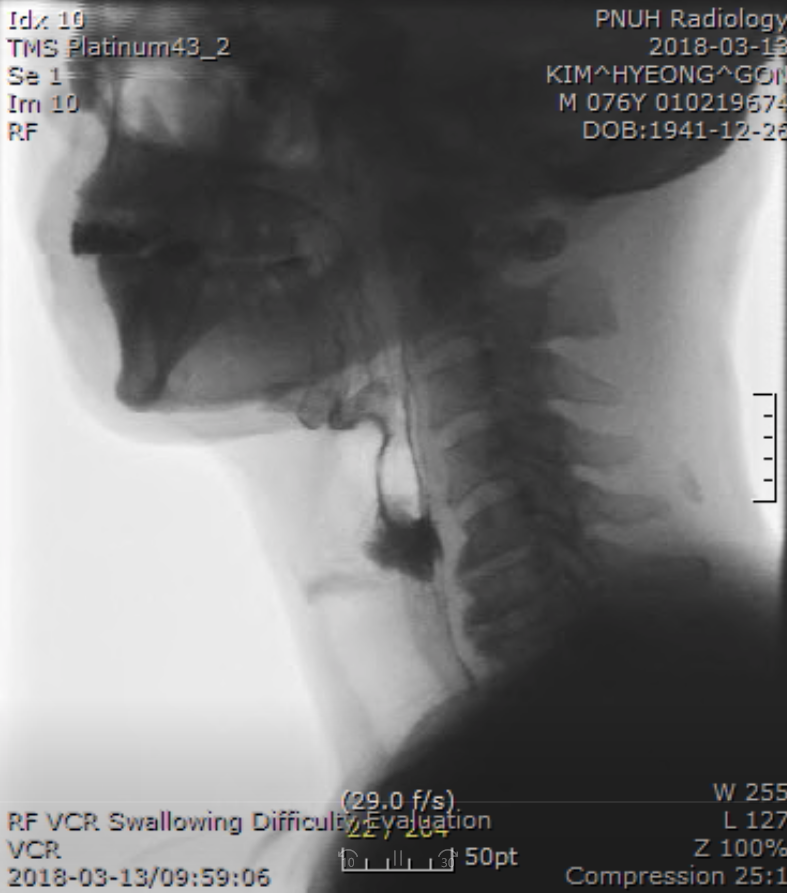dros: (387, 462, 437, 526)
food: (347, 502, 445, 589)
uros: (326, 398, 382, 441)
